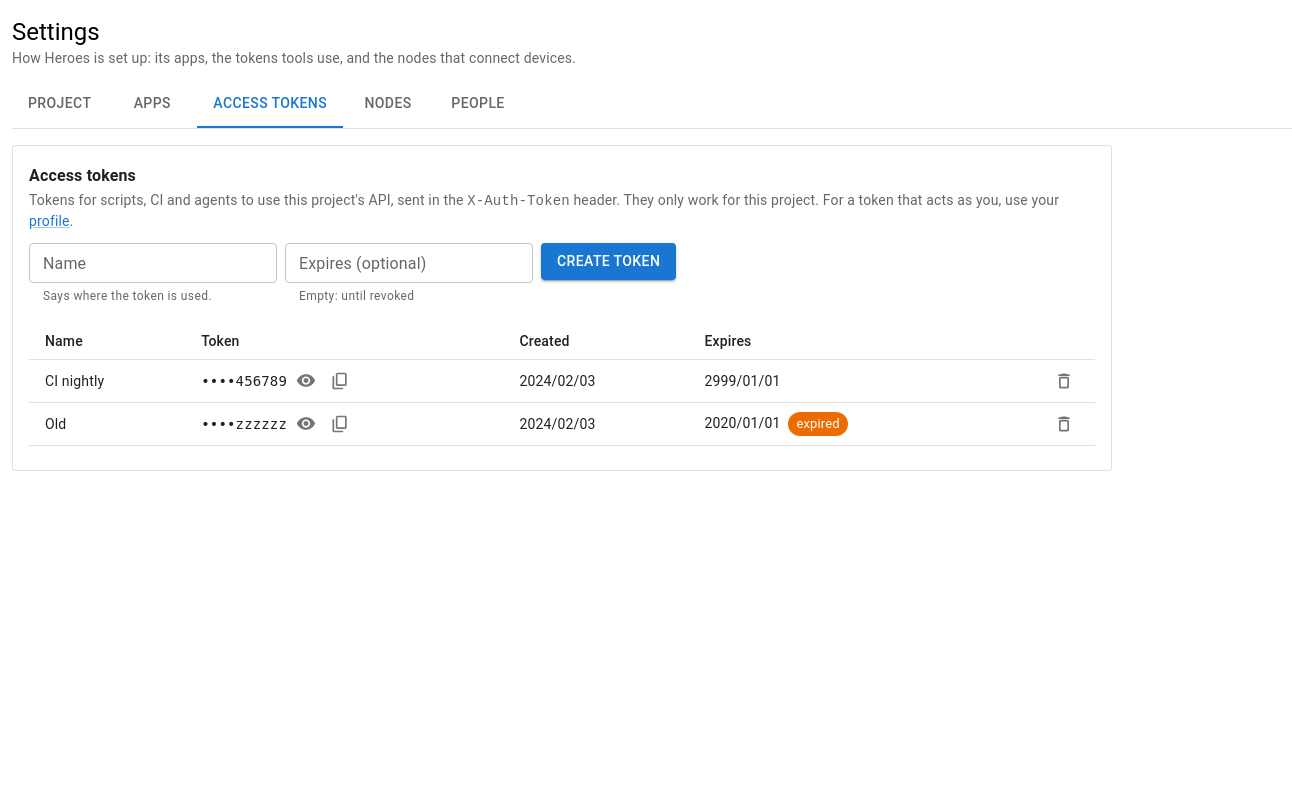
Settings > Access tokens > create: shows the error and keeps the form when creating fails
Check: the table named "Access tokens" is shown, box [29,323,1095,446]
Type "X" into the field labelled "Name".
click(153, 263); type("X")  # box [29,243,277,283]
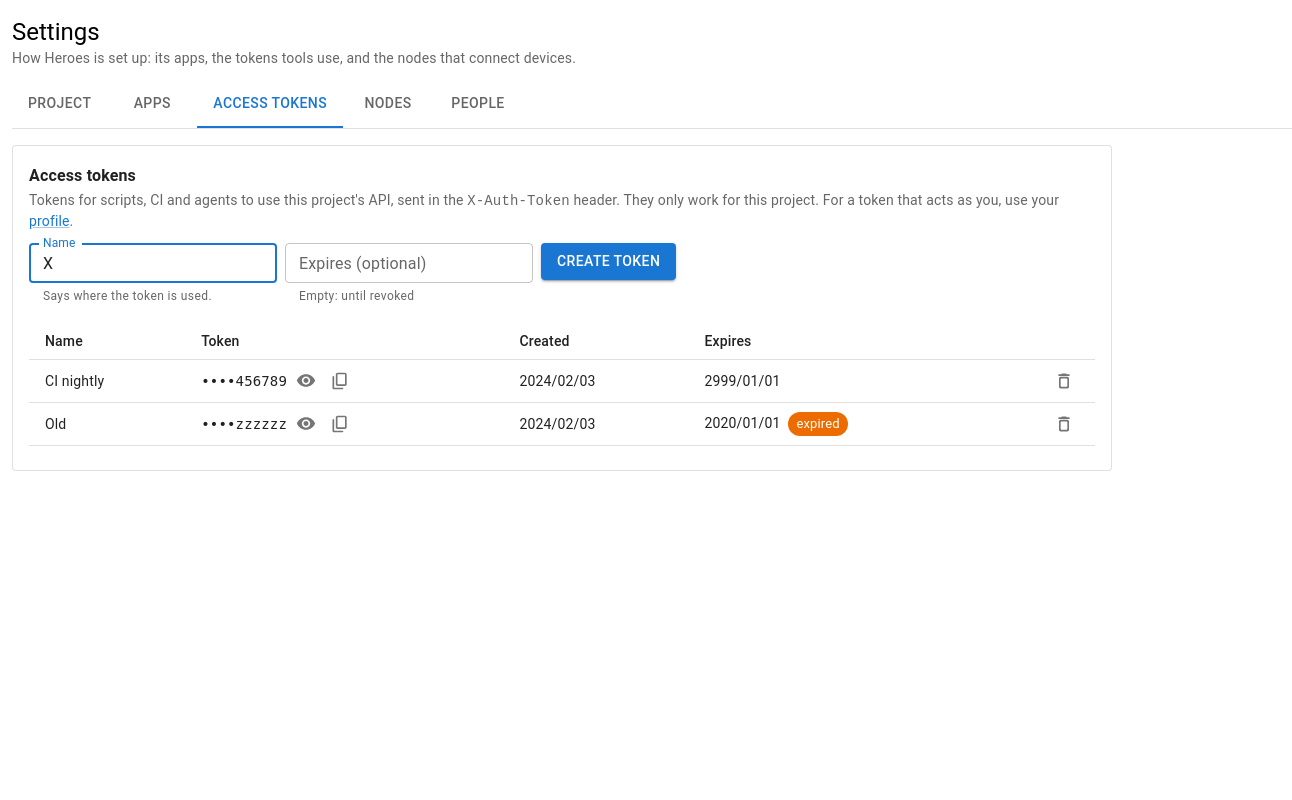
Click the button "Create token".
click(609, 261)  # box [541,243,676,280]
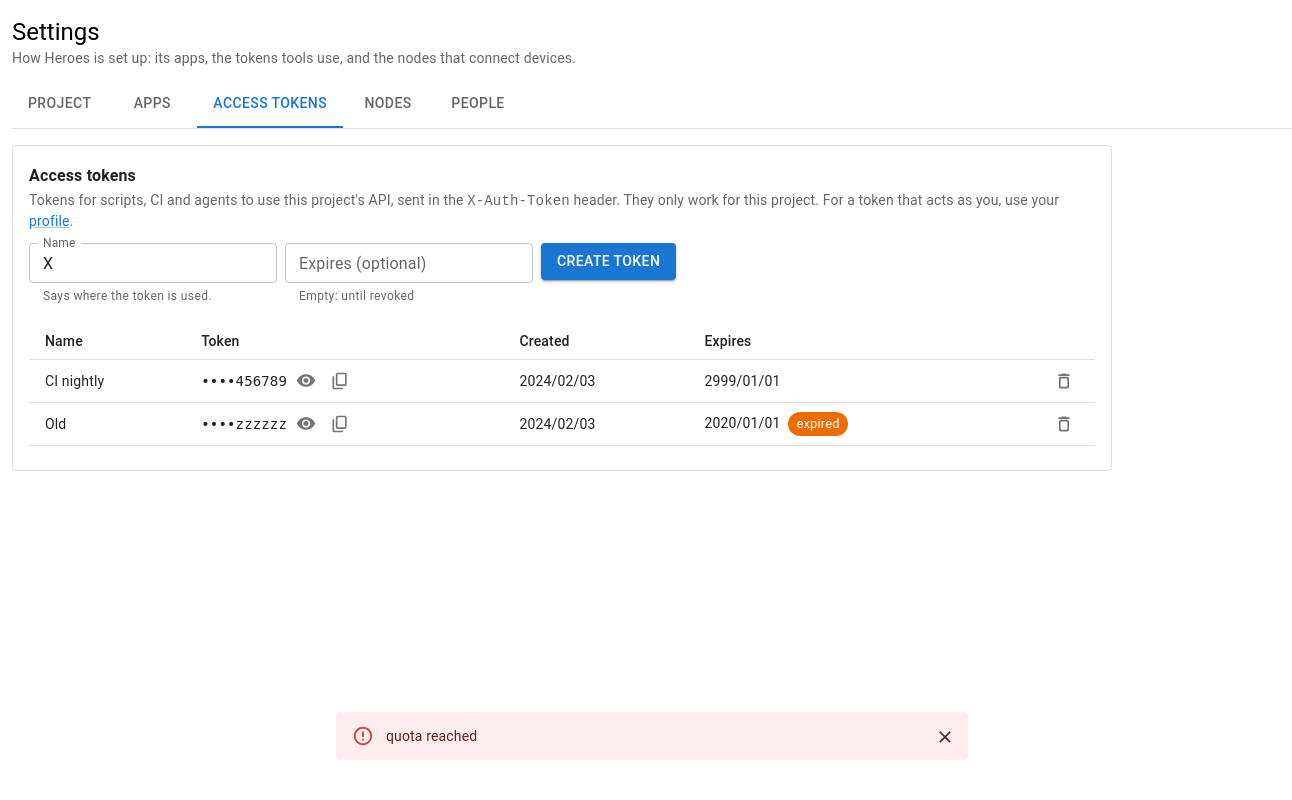
Check: the message reads "quota reached", box [386,728,477,744]
